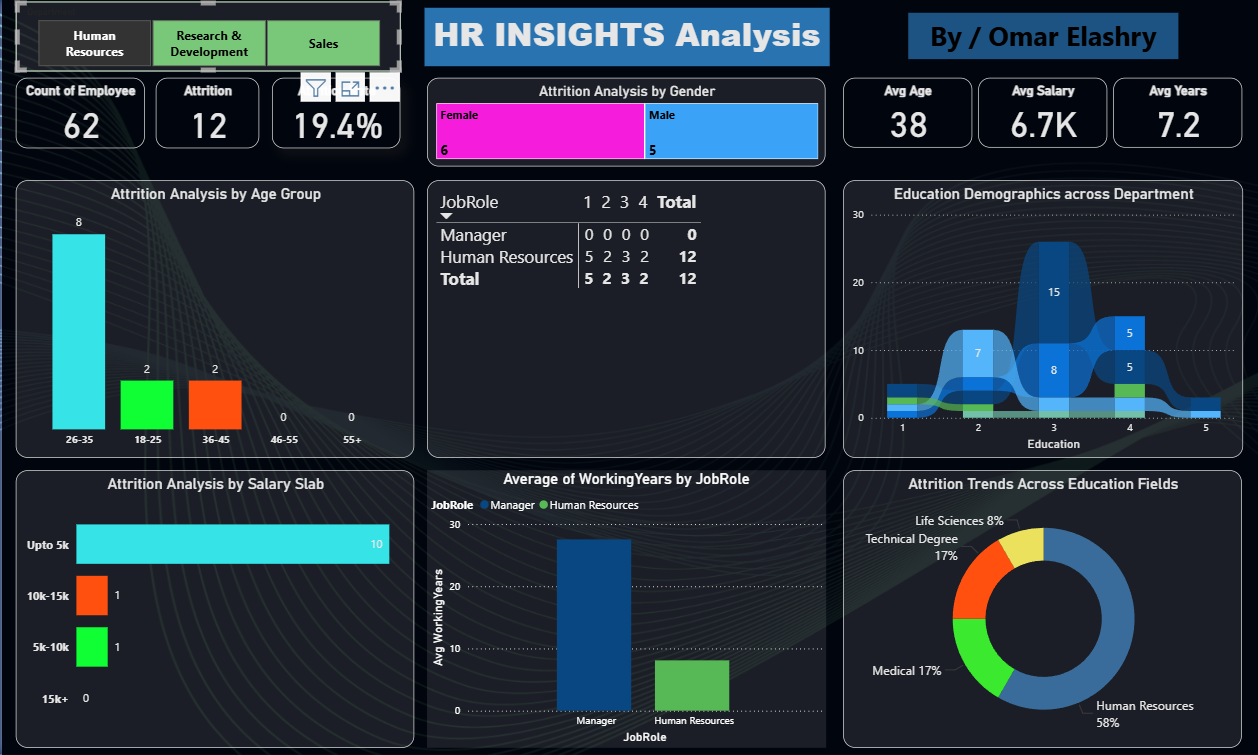

Layout of this report page (visuals, bound fields, positions):
{"tool":"powerbi","page":{"name":"Page 1","canvas":[1500,900],"ordinal":0},"visuals":[{"type":"card","title":"Count of Employee","fields":{"Values":["CountNonNull(HR_Analytics.EmpID)"]},"box":[16.8,93.6,153.7,83.8],"z":0},{"type":"card","title":"Attrition","fields":{"Values":["Sum(HR_Analytics.AttritionCount)"]},"box":[183,93.6,122.9,83.8],"z":1000},{"type":"card","title":"Attrition Rate","fields":{"Values":["HR_Analytics.AttritionRate"]},"box":[321.3,93.6,153,83.8],"z":2000},{"type":"card","title":"Avg Age","fields":{"Values":["Avg(HR_Analytics.Age)"]},"box":[1001.5,93.8,153.3,83.3],"z":3000},{"type":"card","title":"Avg Salary","fields":{"Values":["Avg(HR_Analytics.MonthlyIncome)"]},"box":[1162.2,93.8,153.3,83.3],"z":4000},{"type":"card","title":"Avg Years","fields":{"Values":["Avg(HR_Analytics.YearsAtCompany)"]},"box":[1322.9,93.8,153.3,83.3],"z":5000},{"type":"donutChart","title":"Attrition Trends Across Education Fields","fields":{"Category":["HR_Analytics.EducationField"],"Y":["Sum(HR_Analytics.AttritionCount)"]},"box":[1001.5,561,474.7,330.4],"z":6000},{"type":"columnChart","title":"Attrition Analysis by Age Group","fields":{"Category":["HR_Analytics.AgeGroup"],"Y":["Sum(HR_Analytics.AttritionCount)"]},"box":[16.4,215.8,474.7,330.4],"z":7000},{"type":"pivotTable","fields":{"Rows":["HR_Analytics.JobRole"],"Columns":["HR_Analytics.JobSatisfaction"],"Values":["Sum(HR_Analytics.AttritionCount)"]},"box":[506,215.8,474.7,330.4],"z":8000},{"type":"barChart","title":"Attrition Analysis by Salary Slab","fields":{"Category":["HR_Analytics.SalarySlab"],"Y":["Sum(HR_Analytics.AttritionCount)"]},"box":[16.4,561,474.7,330.4],"z":9000},{"type":"treemap","title":"Attrition Analysis by Gender","fields":{"Group":["HR_Analytics.Gender"],"Values":["Sum(HR_Analytics.AttritionCount)"]},"box":[506,93.8,474.7,105.7],"z":10000},{"type":"slicer","fields":{"Values":["HR_Analytics.Department"]},"box":[16.4,3,458.3,83.3],"z":11000},{"type":"textbox","box":[503,10.4,482.1,69.9],"z":12000},{"type":"ribbonChart","title":"Education Demographics across Department ","fields":{"Y":["CountNonNull(HR_Analytics.Department)"],"Category":["HR_Analytics.Education"],"Series":["HR_Analytics.EducationField"]},"box":[1001.5,215.8,476.2,330.4],"z":13000},{"type":"columnChart","title":"Average of WorkingYears by JobRole","fields":{"Y":["Avg(HR_Analytics.TotalWorkingYears)"],"Category":["HR_Analytics.JobRole"],"Series":["HR_Analytics.JobRole"]},"box":[506,561,475,330],"z":14000},{"type":"textbox","box":[1078.9,16.4,321.4,55.1],"z":14001}]}

Visuals, with their boxes in screenshot pixels (x1, y1, x2, y2), scaled from the page's 1500x900 canvas onto the 1258x755 screenshot:
"Count of Employee" card: detection(14, 79, 143, 149)
"Attrition" card: detection(153, 79, 257, 149)
"Attrition Rate" card: detection(269, 79, 398, 149)
"Avg Age" card: detection(840, 79, 968, 149)
"Avg Salary" card: detection(975, 79, 1103, 149)
"Avg Years" card: detection(1109, 79, 1238, 149)
"Attrition Trends Across Education Fields" donutChart: detection(840, 471, 1238, 748)
"Attrition Analysis by Age Group" columnChart: detection(14, 181, 412, 458)
pivotTable - HR_Analytics.JobRole x HR_Analytics.JobSatisfaction: detection(424, 181, 822, 458)
"Attrition Analysis by Salary Slab" barChart: detection(14, 471, 412, 748)
"Attrition Analysis by Gender" treemap: detection(424, 79, 822, 167)
slicer - HR_Analytics.Department: detection(14, 3, 398, 72)
textbox: detection(422, 9, 826, 67)
"Education Demographics across Department " ribbonChart: detection(840, 181, 1239, 458)
"Average of WorkingYears by JobRole" columnChart: detection(424, 471, 823, 747)
textbox: detection(905, 14, 1174, 60)
